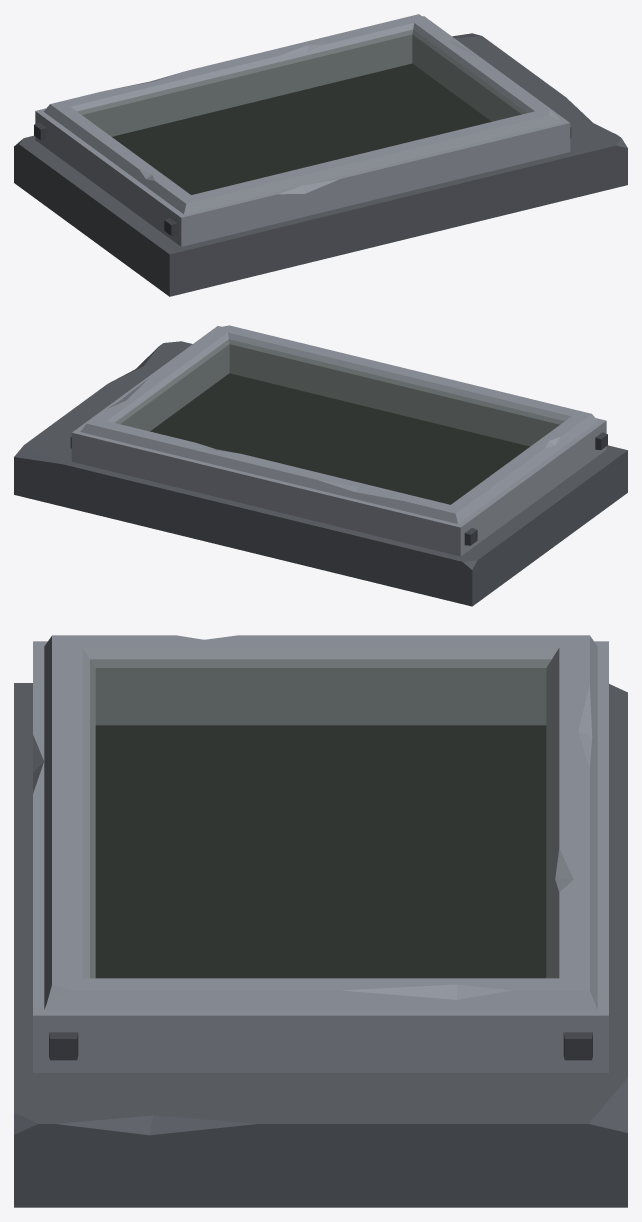
File: SM_Bld_Skylight_01.fbx
3 views of the same model, one above another, from view 1: azimuth 30°, elevation 25°; view 2: azimuth 150°, elevation 25°; view 3: azimuth 270°, elevation 25° (orthographic). The views are drawn at different scales.
Visible parts, largest first — view 1: SM_Bld_Skylight_01; view 2: SM_Bld_Skylight_01; view 3: SM_Bld_Skylight_01.
Part boxes in pixels (box(x1,y1,x2,y2)): SM_Bld_Skylight_01: box(14, 14, 627, 296); SM_Bld_Skylight_01: box(14, 325, 627, 606); SM_Bld_Skylight_01: box(14, 635, 627, 1207).
Bounding box in the file's own units: 161 × 26.67 × 94.73.
